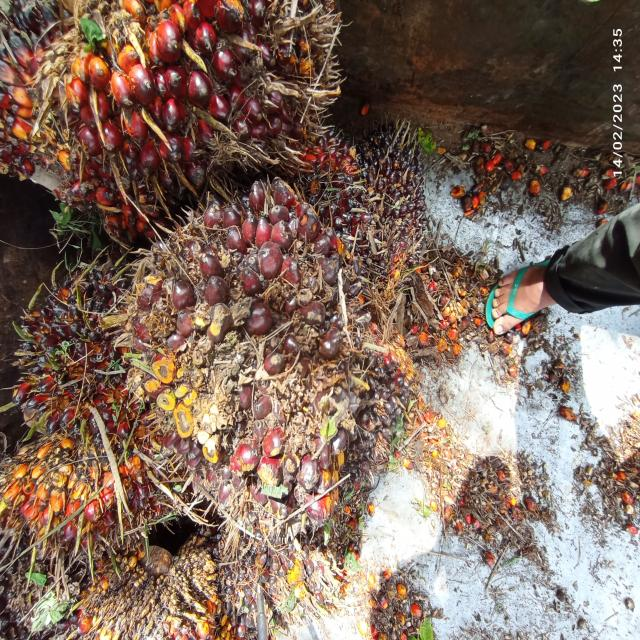fraksi 1: (70, 106, 487, 575)
